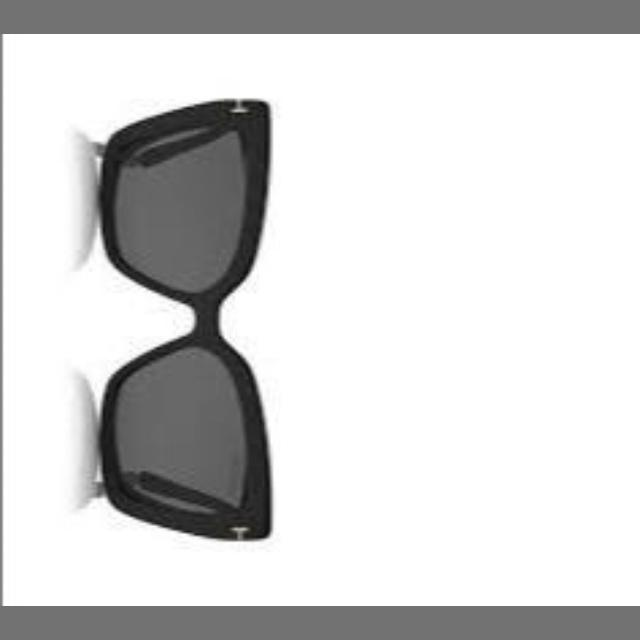Sunglasses: (74, 64, 324, 558)
